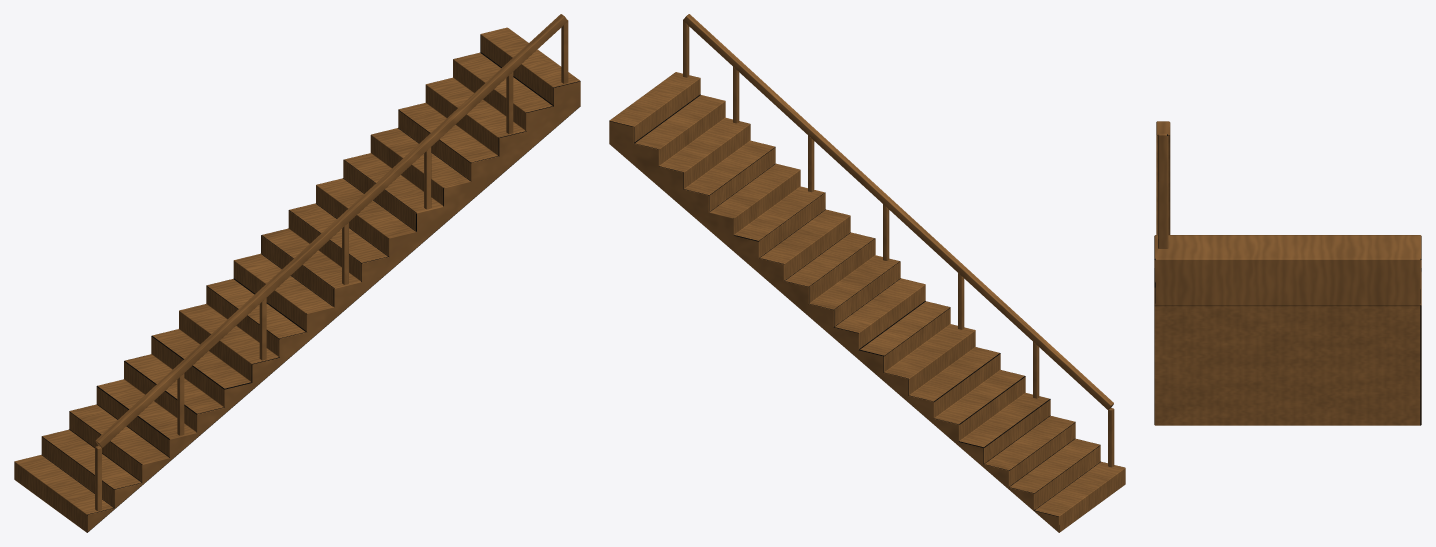
The model's file is Furn_Stairs.fbx.
3 views of the same model, side by side, from view 1: azimuth 30°, elevation 25°; view 2: azimuth 150°, elevation 25°; view 3: azimuth 270°, elevation 25° (orthographic). The views are drawn at different scales.
Visible parts, largest first — view 1: Furn_Stairs_Mesh; view 2: Furn_Stairs_Mesh; view 3: Furn_Stairs_Mesh.
Boxes of the visible parts, x1,y1,x2,y2 form: Furn_Stairs_Mesh: (14,14,580,532); Furn_Stairs_Mesh: (609,14,1125,532); Furn_Stairs_Mesh: (1154,121,1421,425).
Size of the model in its own units: 7 by 5.42 by 1.8.
Materials: 1 (1 with a texture image).
